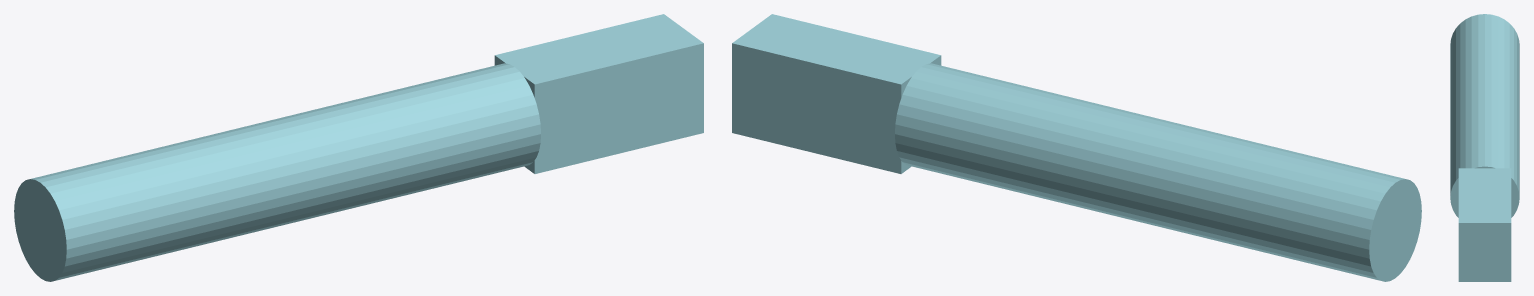
File: cylinder_spatula_v6011.obj
The picture shows the model from 3 angles, left to right: view 1: azimuth 30°, elevation 25°; view 2: azimuth 150°, elevation 25°; view 3: azimuth 270°, elevation 25°; orthographic projection. The views are drawn at different scales.
Bounding box in the file's own units: 0.2374 × 0.0337 × 0.0337.
Materials: 1 (1 with a texture image).
